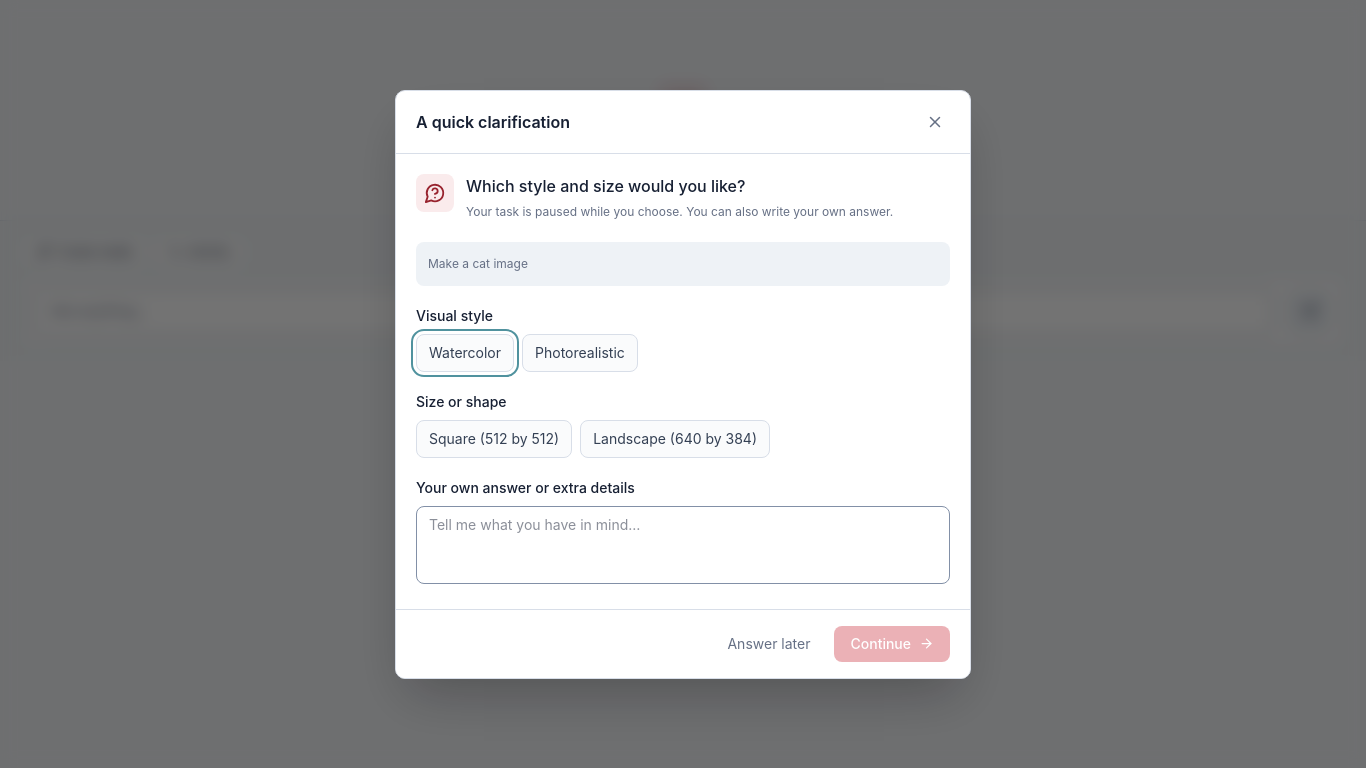
Scenario: Answer later leaves a recovered task paused and lets the question be reopened
The width and height of the screenshot is (1366, 768).
Click the button "Answer later".
click(769, 644)  # box [716,626,822,662]
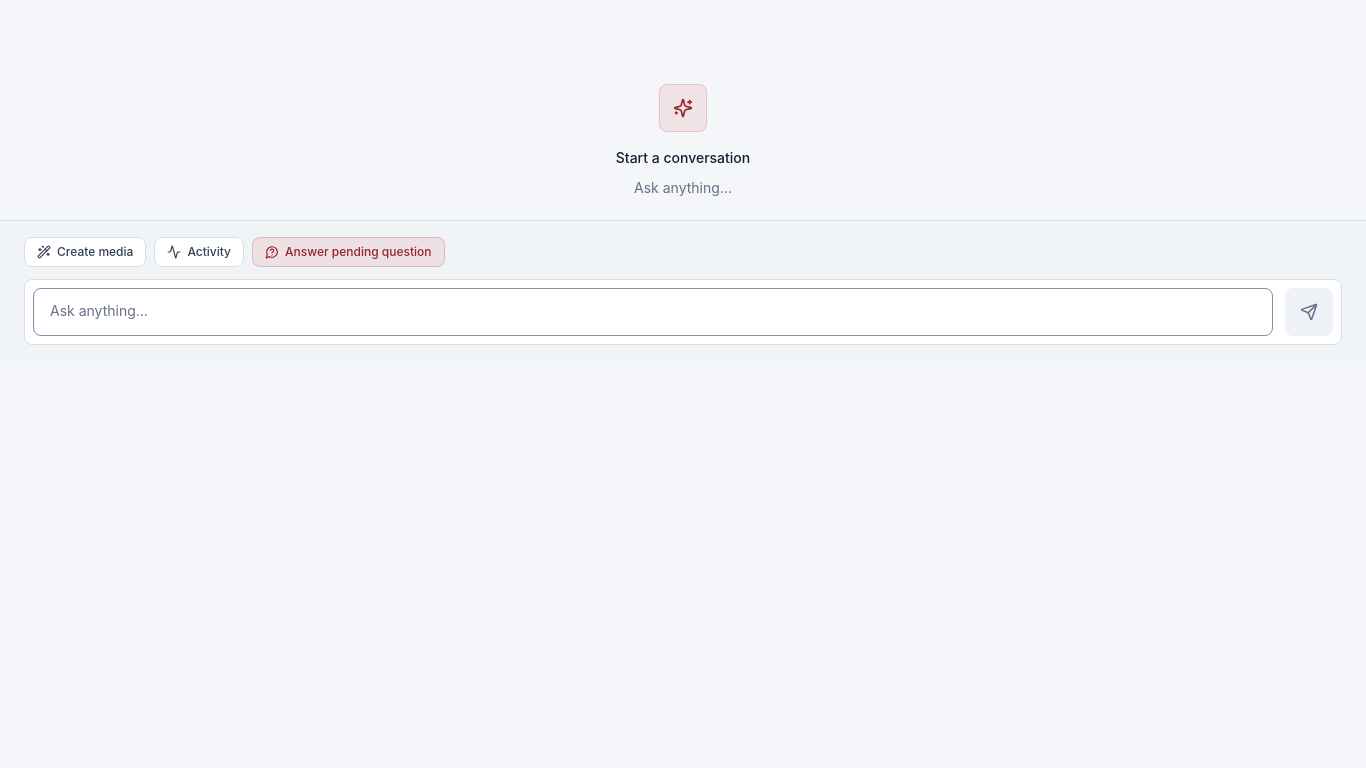
Now the dialog is gone
Click the button "Answer pending question".
click(348, 252)  # box [252,237,444,267]
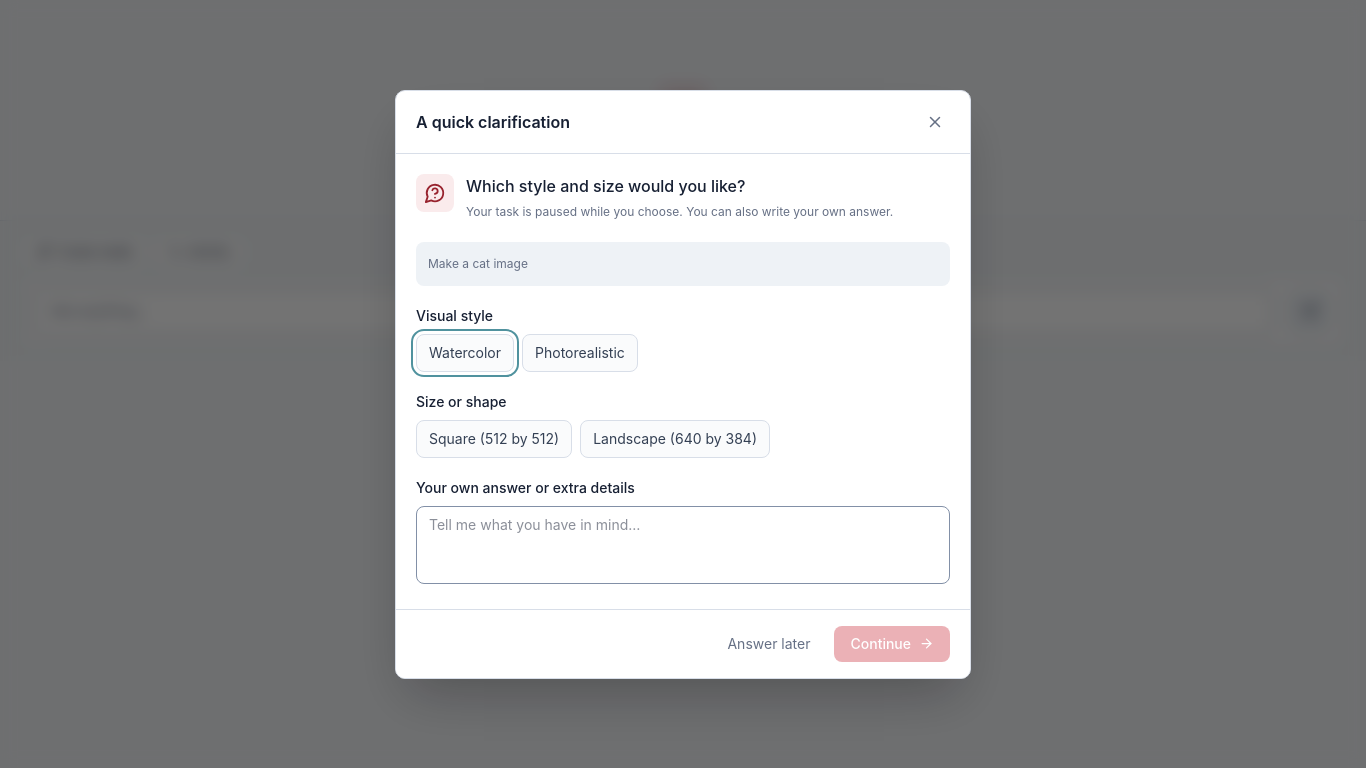
Now the dialog "A quick clarification" is shown, box [395,90,971,678]
